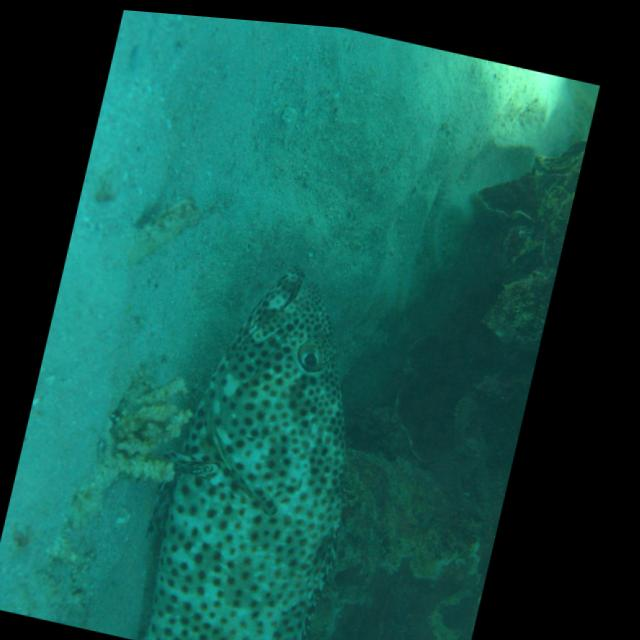Groupers: (117, 246, 399, 640)
